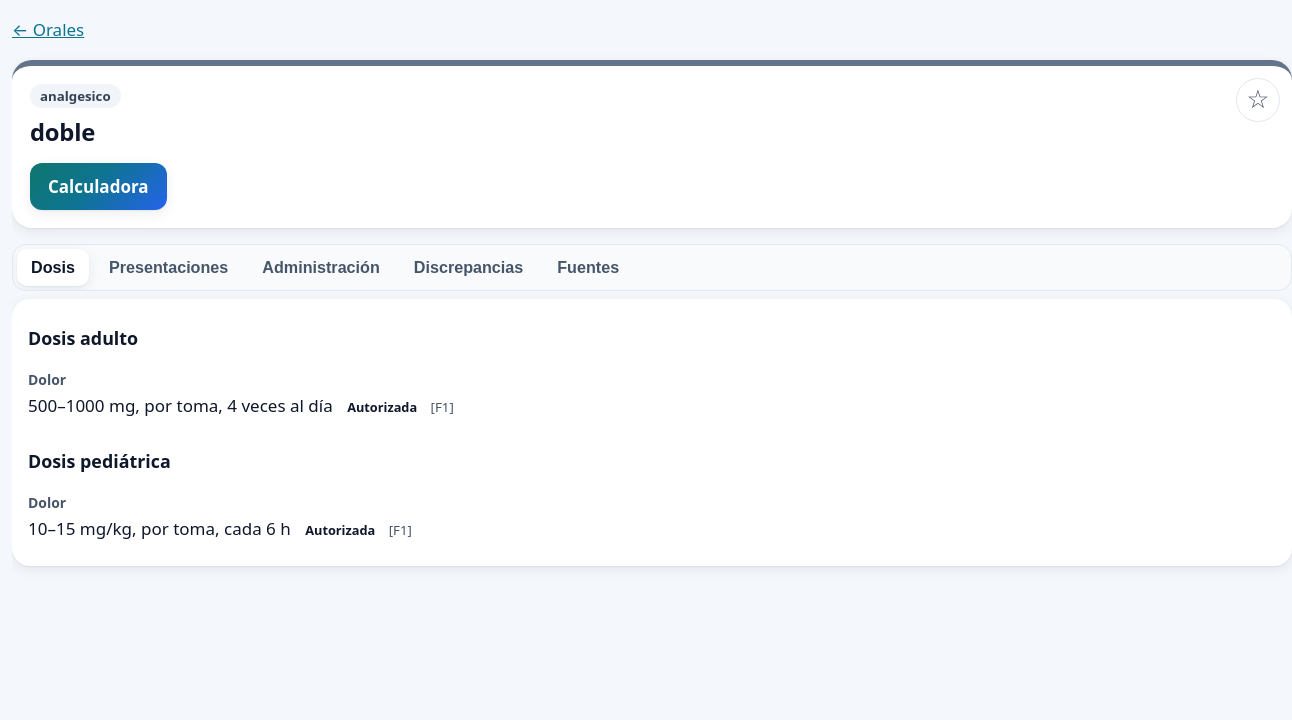
Test: FichaOral › registro verificado se rotula Verificado
Click the tab "Presentaciones". click: (169, 268)
box: [95, 249, 242, 286]
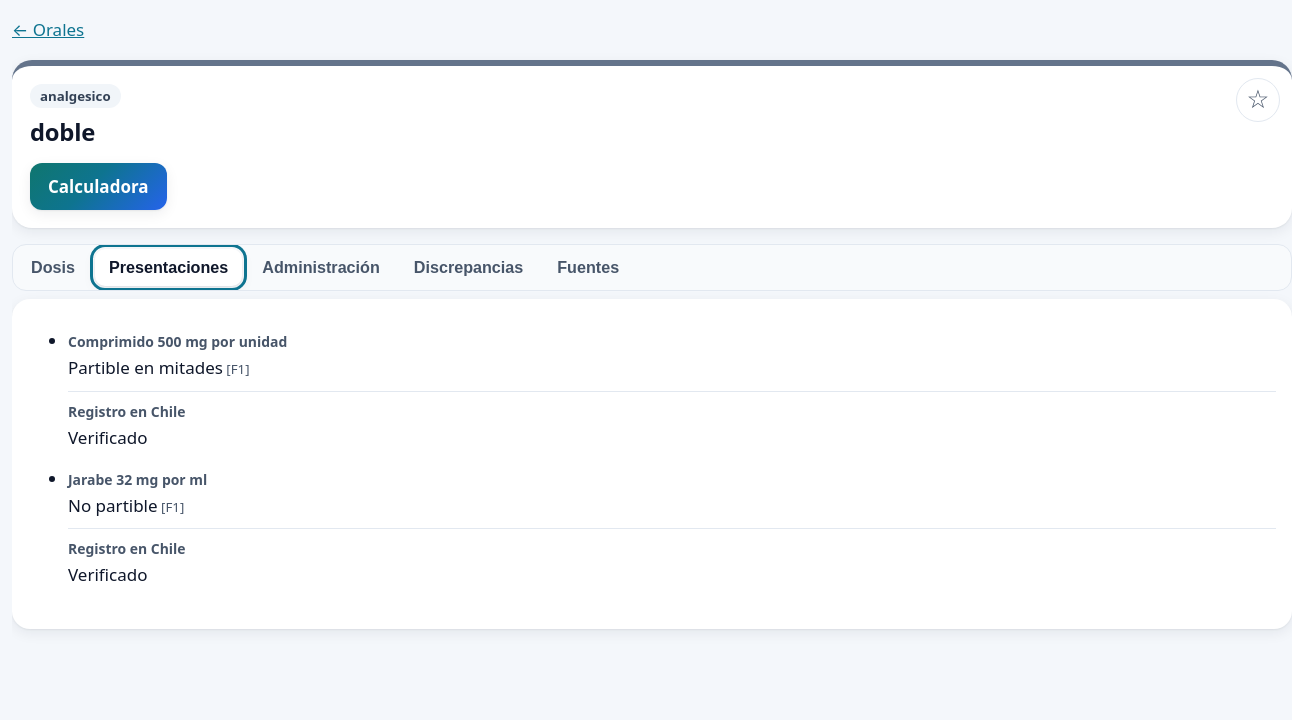
Expected: the text "Verificado" is shown 2 times, [68, 426, 148, 448]; [68, 563, 148, 586]
